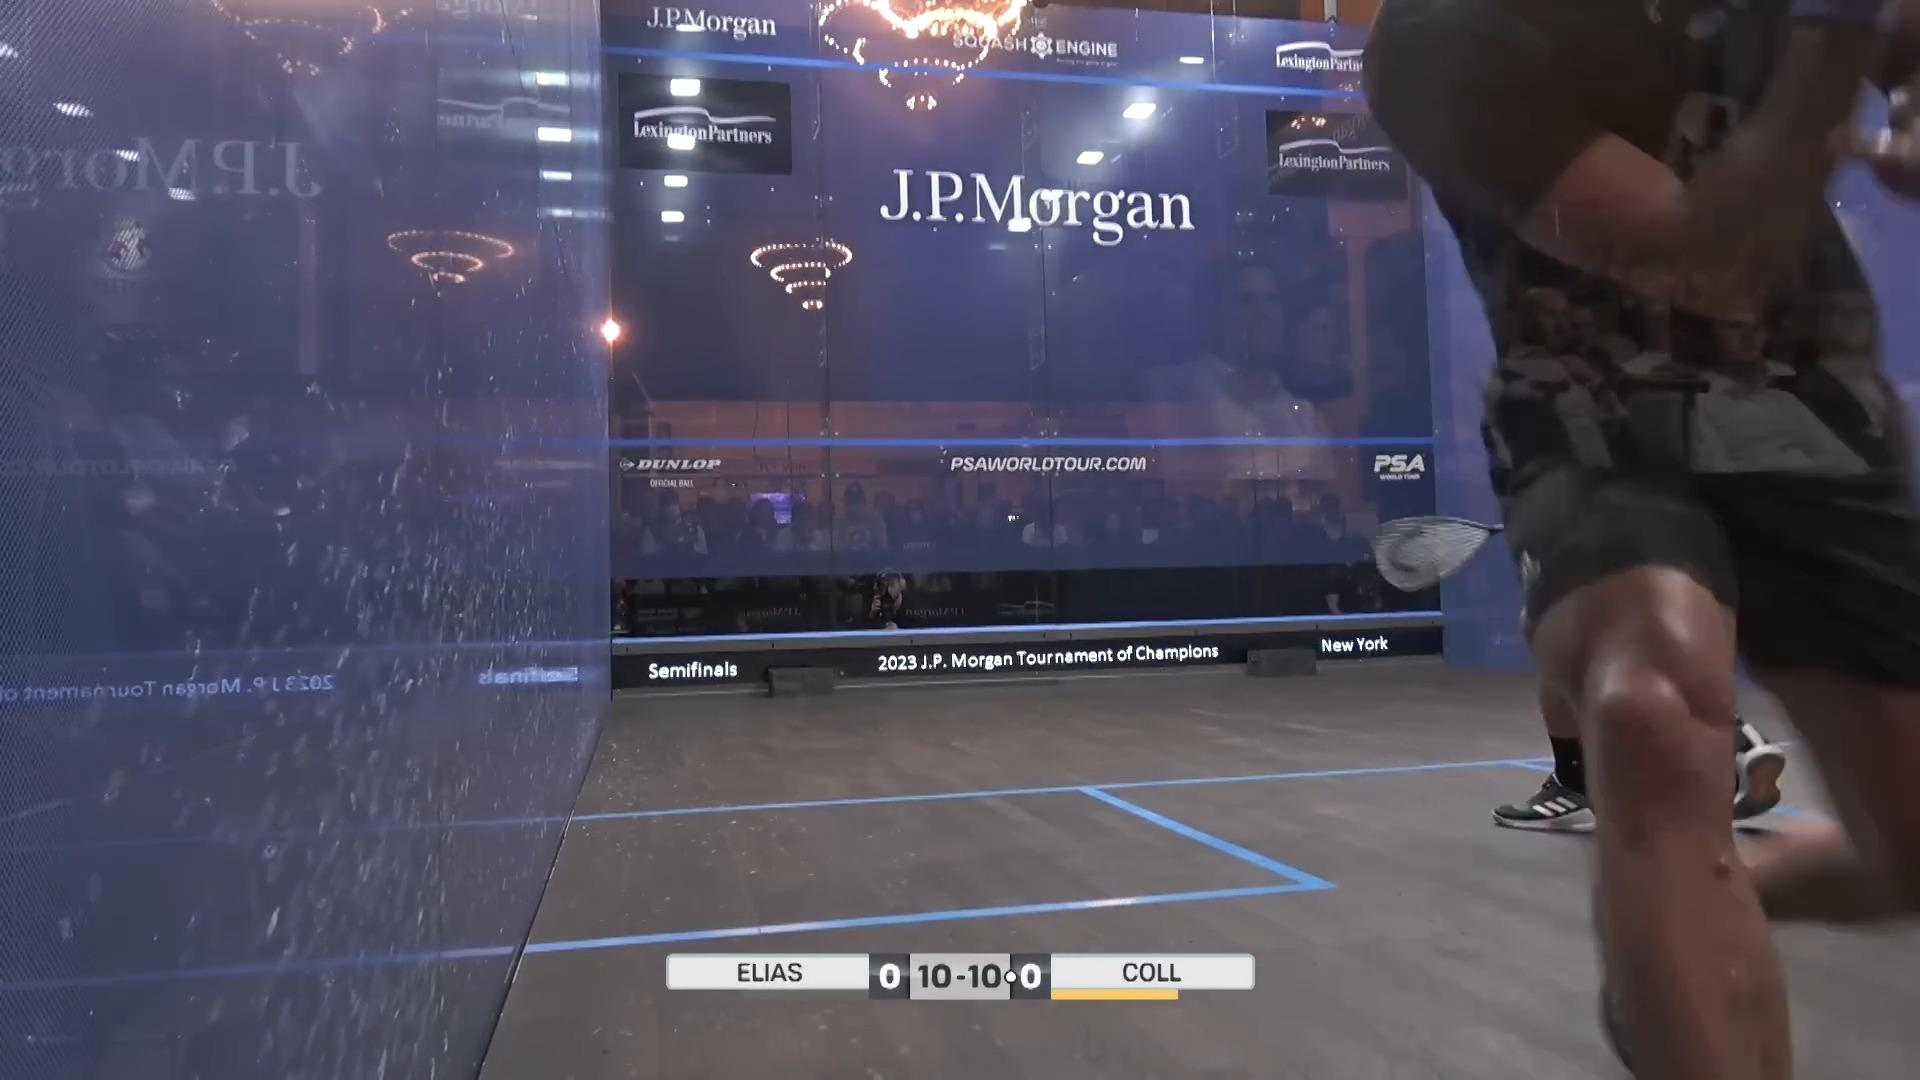Racket: (1364, 502, 1510, 600)
